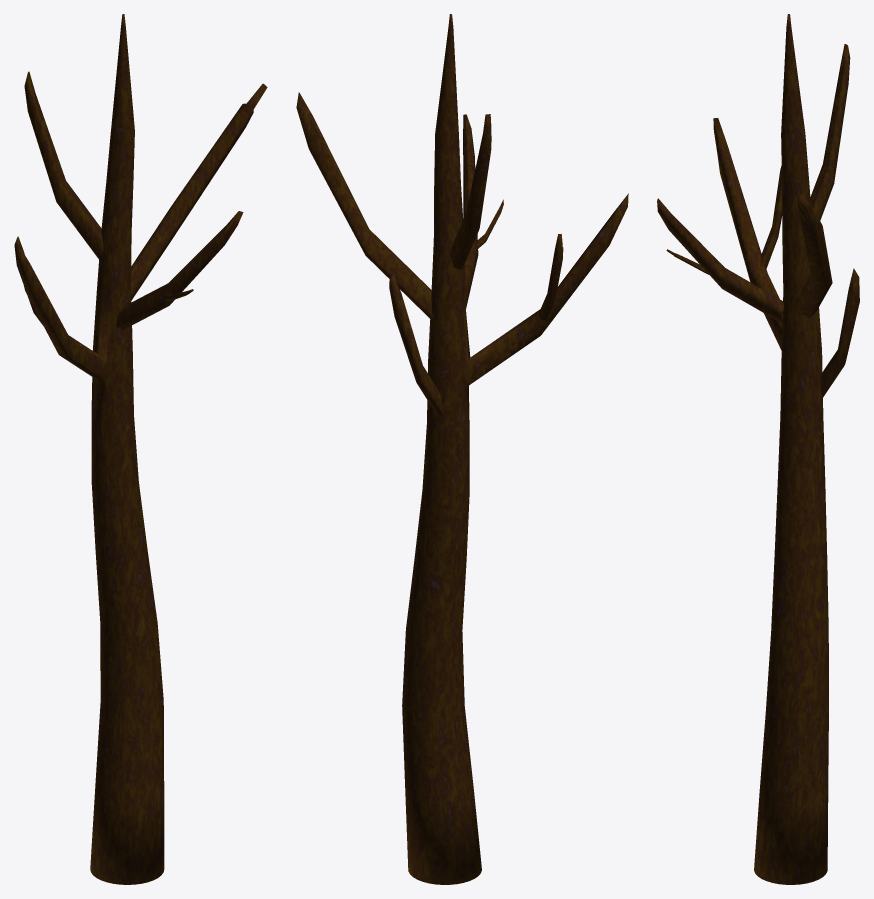
Rendered from DeadTree2.fbx.
The picture shows the model from 3 angles, left to right: view 1: azimuth 30°, elevation 25°; view 2: azimuth 150°, elevation 25°; view 3: azimuth 270°, elevation 25°; orthographic projection.
Parts seen in each view (by area): view 1: DeadTree2; view 2: DeadTree2; view 3: DeadTree2.
Boxes of the visible parts, x1=… form: DeadTree2: x1=14, y1=14, x2=267, y2=884; DeadTree2: x1=296, y1=14, x2=628, y2=884; DeadTree2: x1=657, y1=14, x2=859, y2=884.
Bounding box in the file's own units: 222 × 627 × 135.
